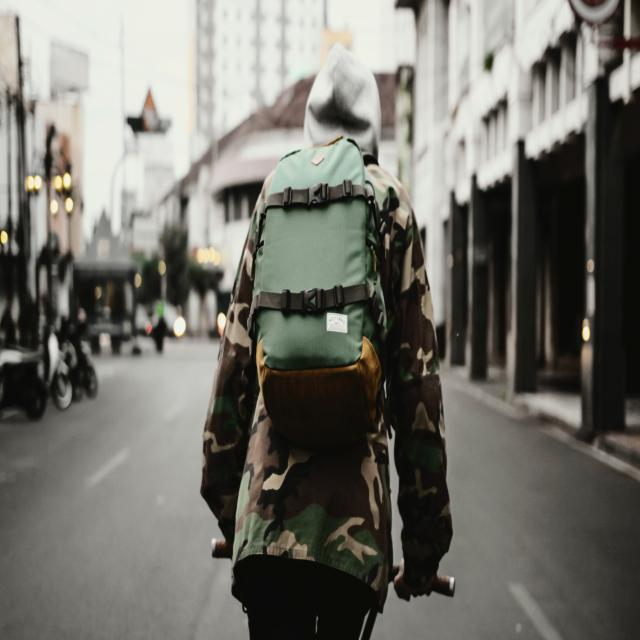backpack: (260, 139, 386, 443)
